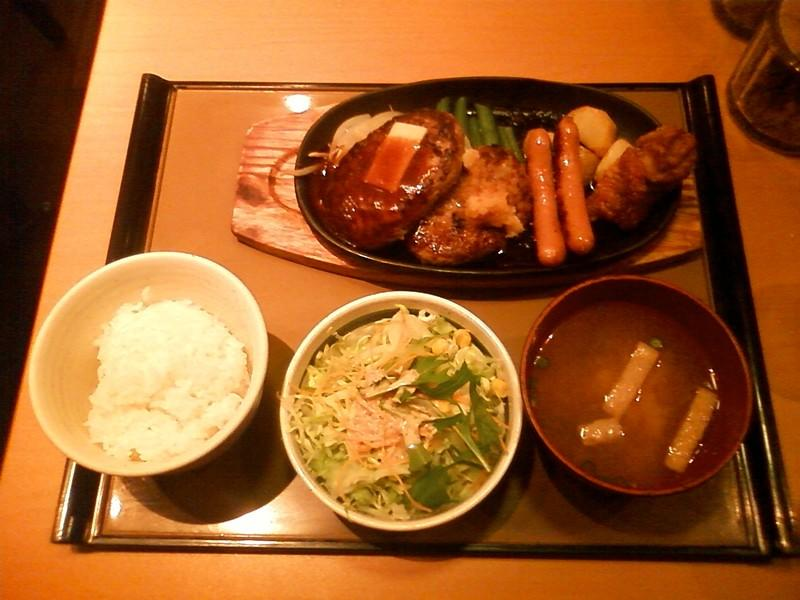rice: (86, 300, 249, 462)
